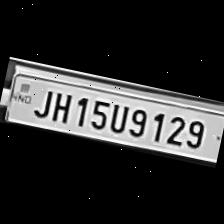1: (144, 107, 168, 144), (66, 92, 90, 128)
2: (160, 109, 188, 147)
5: (84, 94, 112, 132)
9: (179, 114, 208, 151), (123, 103, 150, 140)
H: (46, 86, 75, 124)
J: (29, 83, 54, 119)
U: (104, 98, 130, 134)
